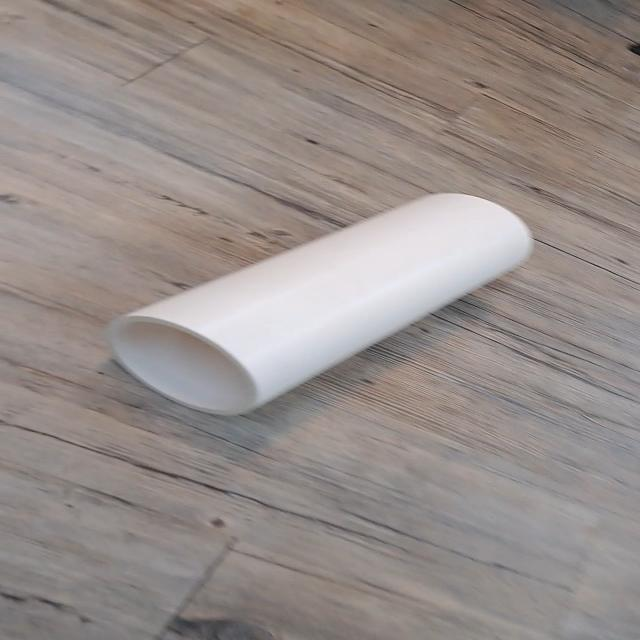CORAL: (83, 182, 542, 424)
